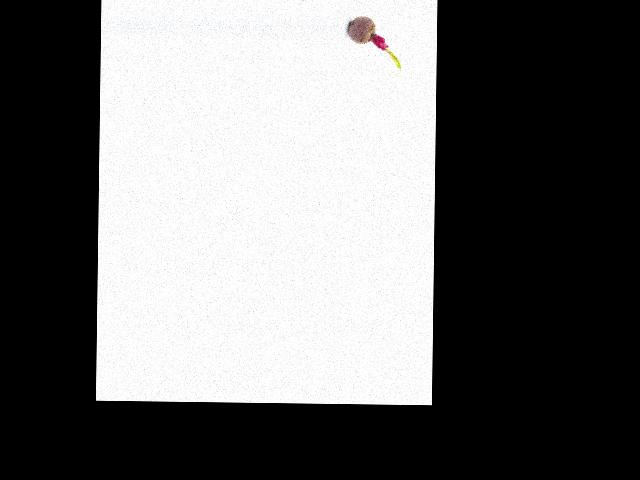beet: (347, 15, 401, 68)
